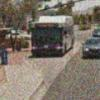buses: (29, 14, 76, 57)
